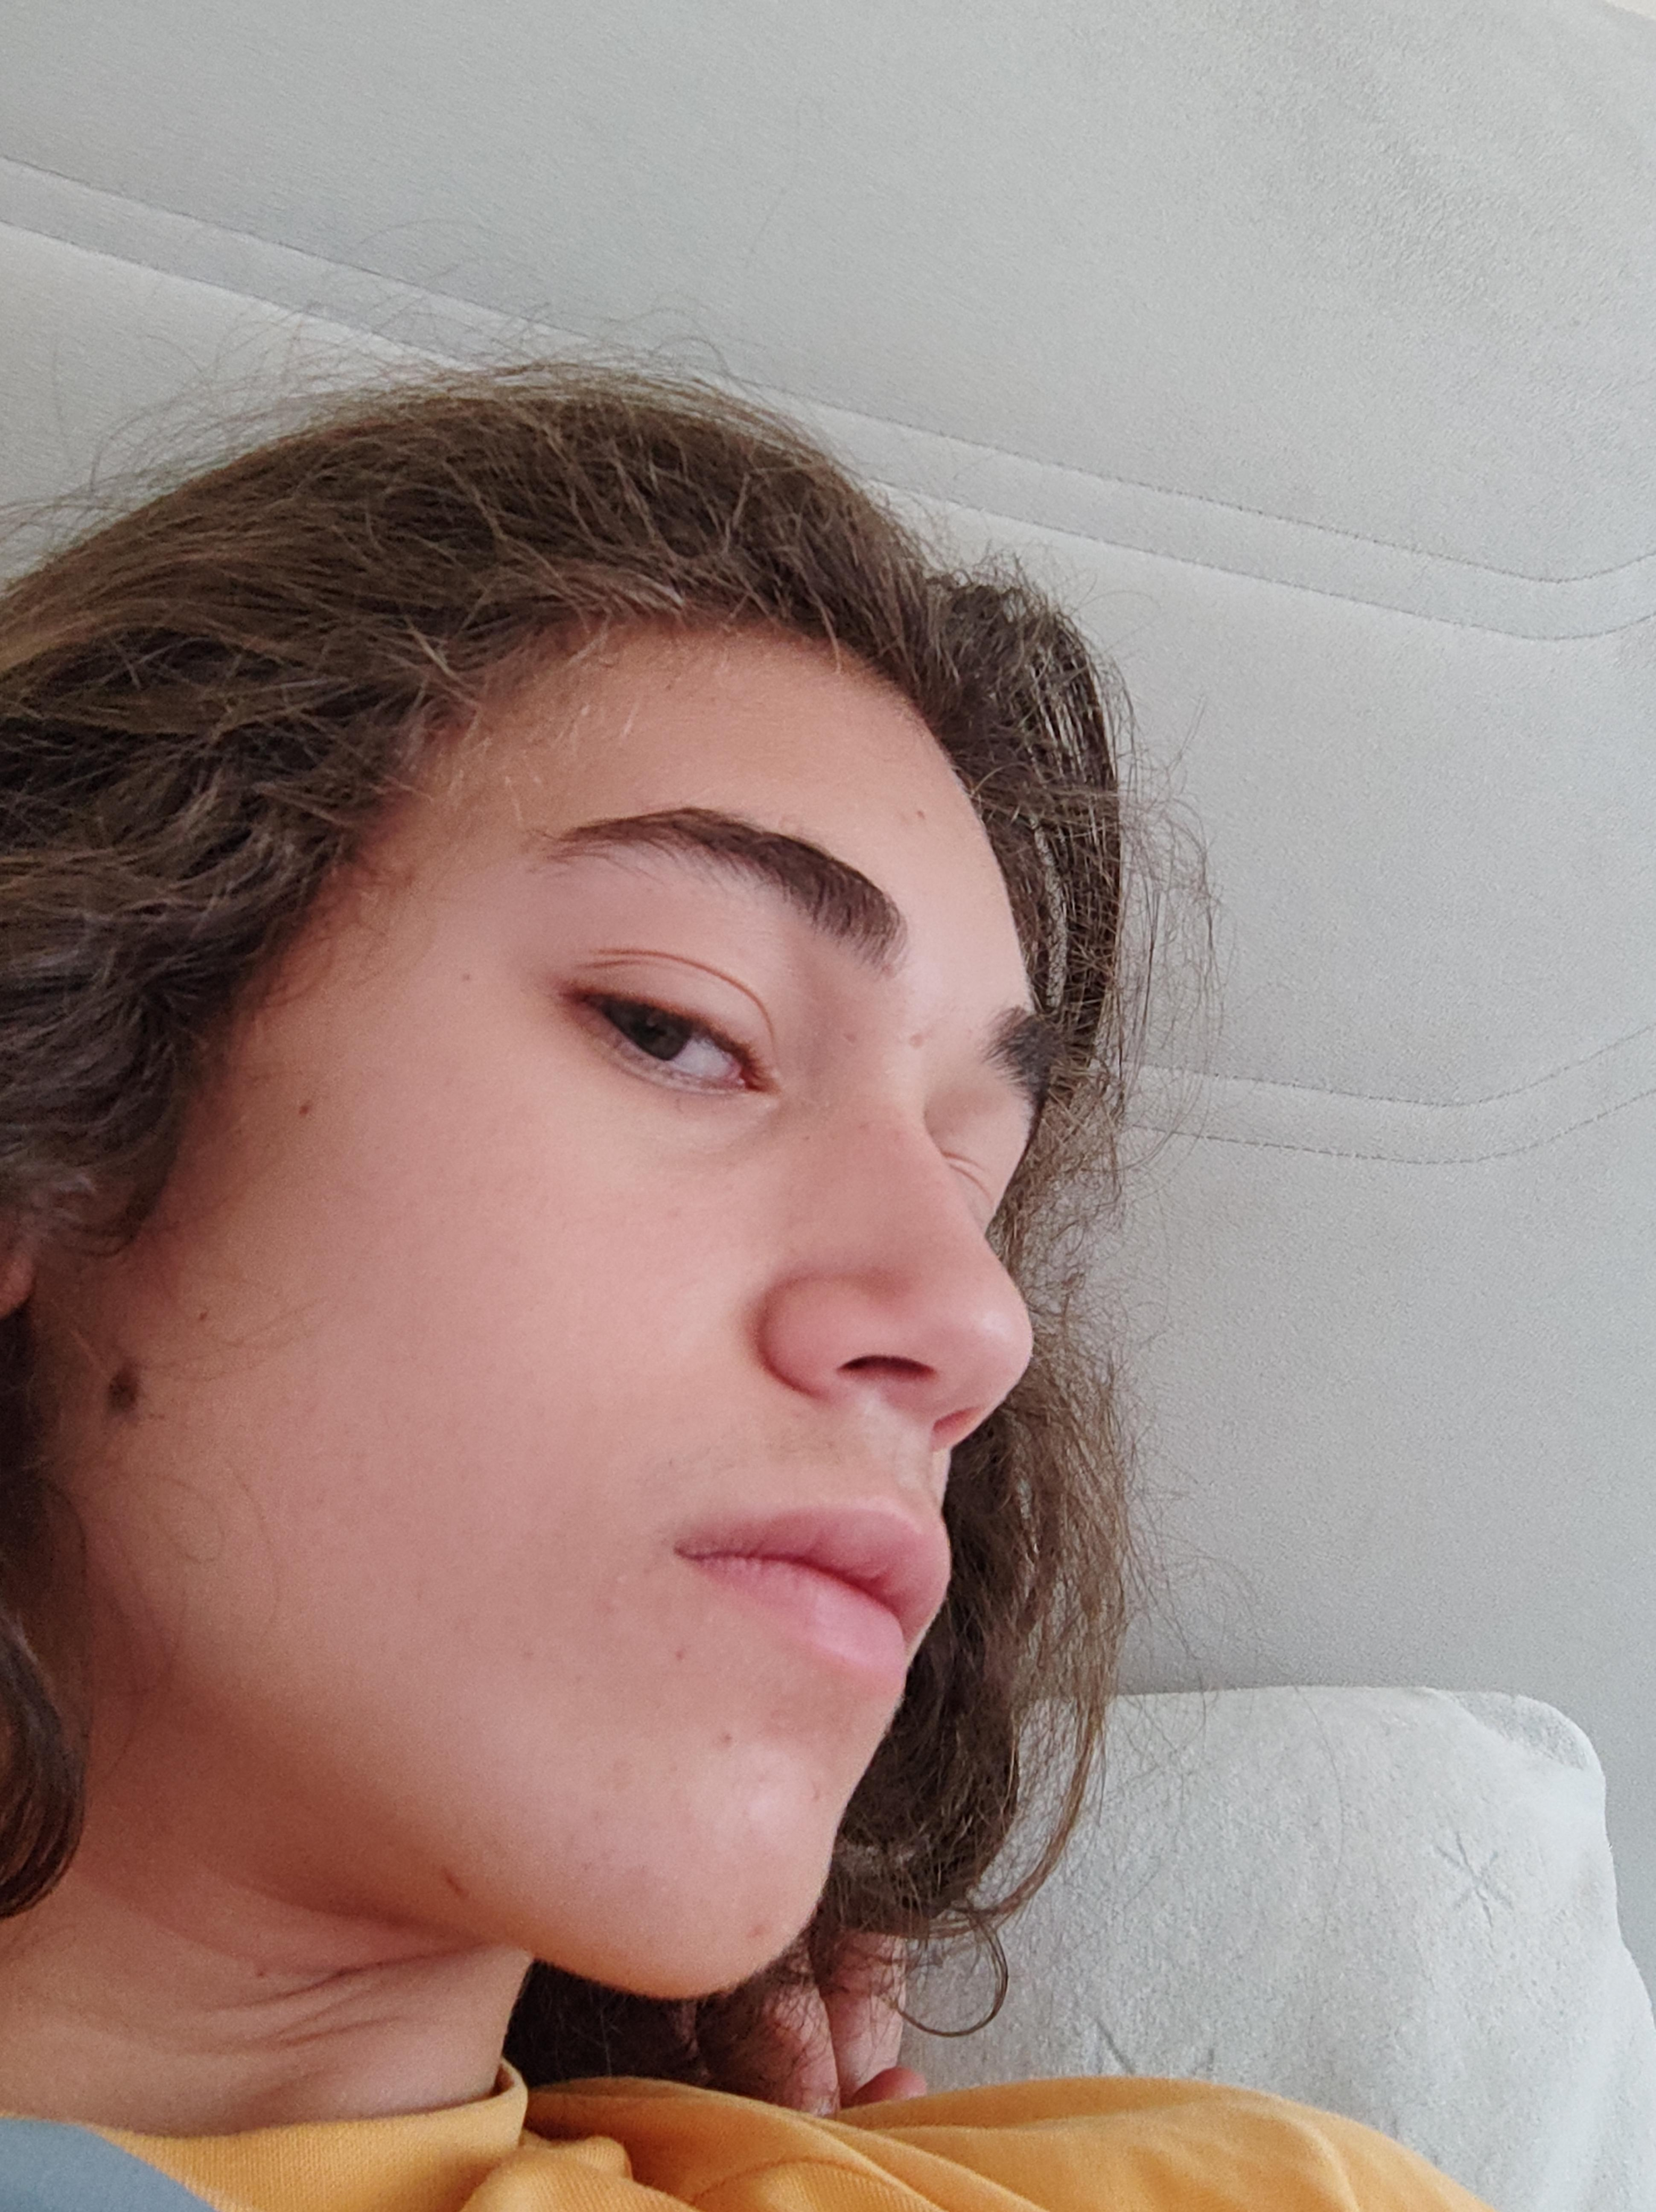Acne: (593, 1556, 638, 1621), (894, 1014, 945, 1057), (731, 1913, 779, 1956), (433, 1857, 471, 1909)
